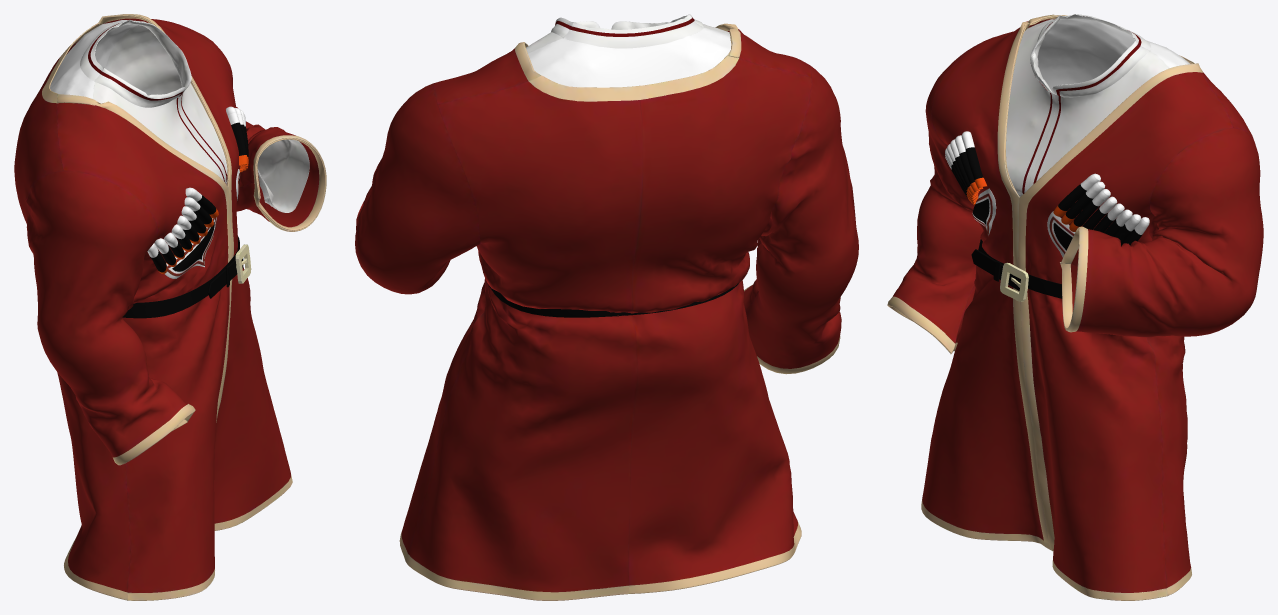
The model's file is COSSACK_CAMISOLE_2#30.glb.
3 renders of one model, left to right at view 1: azimuth 30°, elevation 25°; view 2: azimuth 150°, elevation 25°; view 3: azimuth 270°, elevation 25°, orthographic. The views are drawn at different scales.
Visible parts, largest first — view 1: verx_kaz_2_lev; view 2: verx_kaz_2_lev; view 3: verx_kaz_2_lev.
Boxes of the visible parts, box(x1,y1,x2,y2) form: verx_kaz_2_lev: box(14, 14, 326, 600); verx_kaz_2_lev: box(355, 14, 858, 600); verx_kaz_2_lev: box(887, 14, 1263, 600).
Bounding box in the file's own units: 4.66 × 6.65 × 4.55.
1 material, 1 textured.
